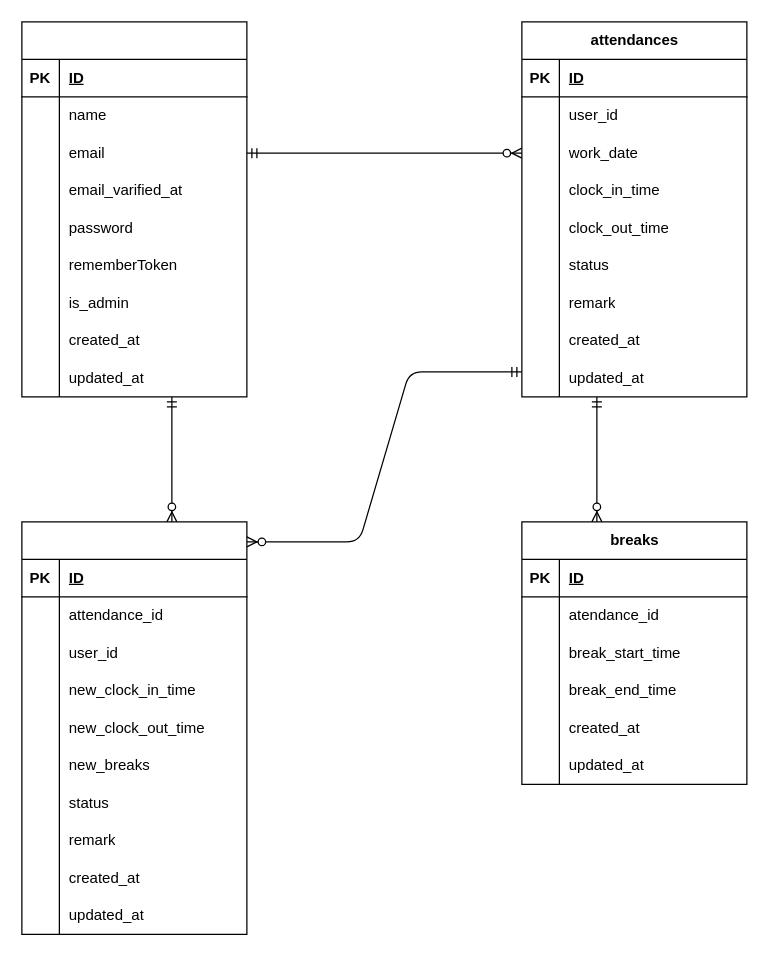
The diagram is 769 pixels wide and 956 high, and some of its shapes have lost their labels. The box of each missing label's shape, as (x1, y1, x2, y2) in pixels:
correction_requests: (21, 521, 247, 934)
users: (21, 21, 247, 397)
